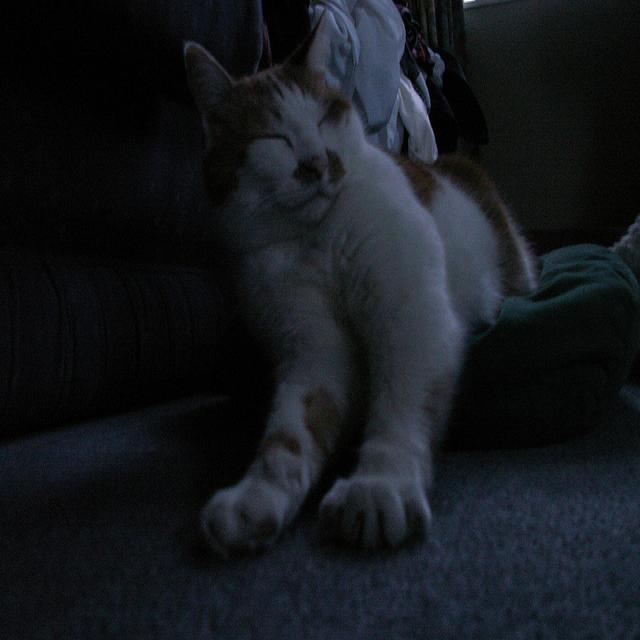Cat: (178, 42, 640, 544)
